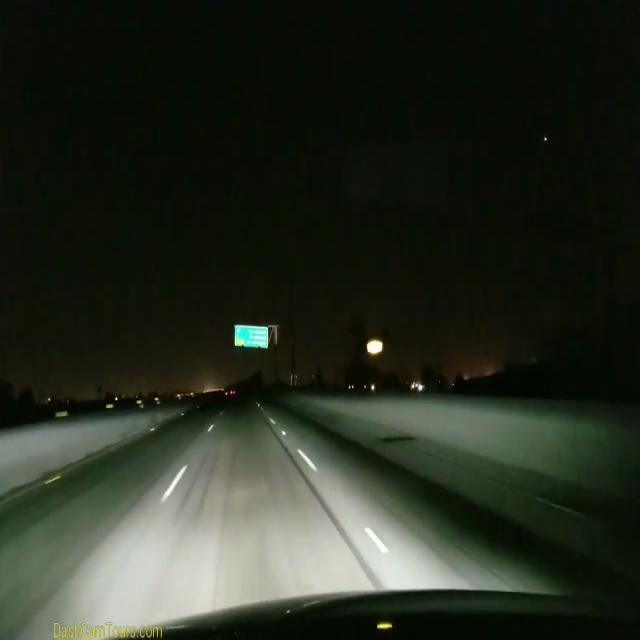street-signs: (235, 324, 268, 349)
